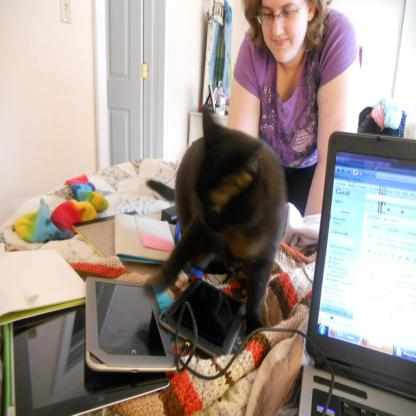board: (300, 134, 416, 416)
